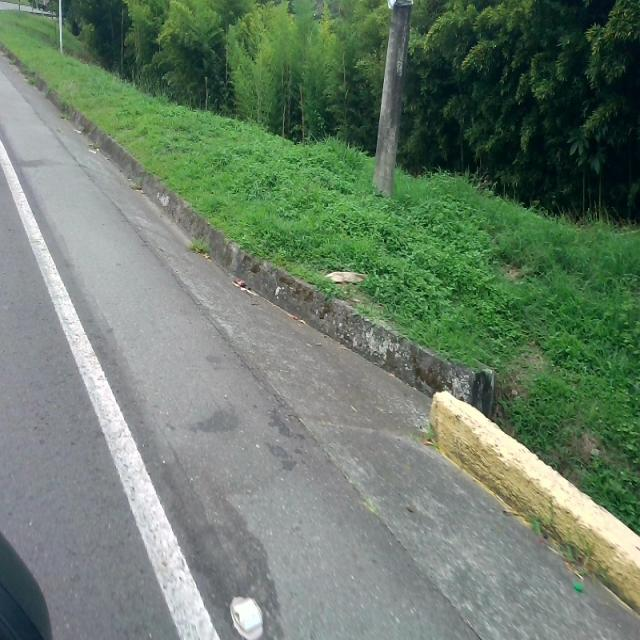DITCH: (1, 41, 638, 638)
